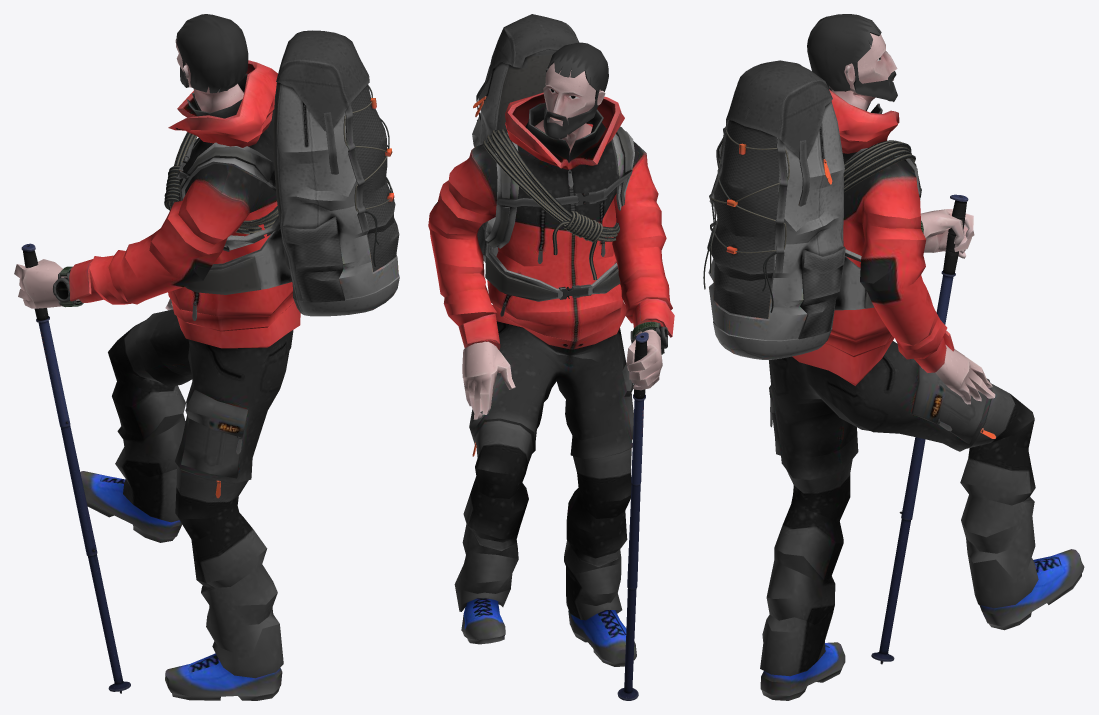
Rendered from hiker.glb.
The picture shows the model from 3 angles, left to right: view 1: azimuth 30°, elevation 25°; view 2: azimuth 150°, elevation 25°; view 3: azimuth 270°, elevation 25°; orthographic projection. The views are drawn at different scales.
Parts seen in each view (by area): view 1: BaseMeshBKP__0, Cube, BaseMeshBKP__0.005, Plane, Cylinder, BaseMeshBKP__0.004, BaseMeshBKP__0.002, BaseMeshBKP__0.001, BezierCircle, Cube.009, Plane.005; view 2: BaseMeshBKP__0, Cube, Plane, BaseMeshBKP__0.002, BaseMeshBKP__0.005, Cylinder, BezierCircle, BaseMeshBKP__0.001, BaseMeshBKP__0.004, BezierCircle.001, BaseMeshBKP__0.003, Plane.005; view 3: BaseMeshBKP__0, Cube, BaseMeshBKP__0.005, Cylinder, BaseMeshBKP__0.004, BaseMeshBKP__0.002, BaseMeshBKP__0.001, BezierCircle, Plane, Cube.009, BaseMeshBKP__0.003.
Boxes of the visible parts, bbox=[...] form: BaseMeshBKP__0: bbox=[69, 60, 300, 678]; Cube: bbox=[273, 30, 399, 316]; BaseMeshBKP__0.005: bbox=[80, 471, 282, 700]; Plane: bbox=[179, 138, 292, 294]; Cylinder: bbox=[21, 243, 130, 693]; BaseMeshBKP__0.004: bbox=[176, 14, 248, 93]; BaseMeshBKP__0.002: bbox=[14, 259, 172, 310]; BaseMeshBKP__0.001: bbox=[175, 38, 243, 112]; BezierCircle: bbox=[169, 95, 278, 234]; Cube.009: bbox=[343, 85, 394, 266]; Plane.005: bbox=[53, 266, 83, 307]; BaseMeshBKP__0: bbox=[428, 92, 674, 620]; Cube: bbox=[472, 14, 579, 262]; Plane: bbox=[484, 126, 634, 301]; BaseMeshBKP__0.002: bbox=[462, 329, 662, 419]; BaseMeshBKP__0.005: bbox=[461, 598, 636, 666]; Cylinder: bbox=[617, 332, 648, 700]; BezierCircle: bbox=[483, 129, 619, 241]; BaseMeshBKP__0.001: bbox=[535, 63, 605, 154]; BaseMeshBKP__0.004: bbox=[546, 42, 608, 108]; BezierCircle.001: bbox=[552, 211, 602, 280]; BaseMeshBKP__0.003: bbox=[543, 100, 597, 139]; Plane.005: bbox=[630, 321, 668, 354]; BaseMeshBKP__0: bbox=[760, 89, 1038, 676]; Cube: bbox=[707, 60, 845, 359]; BaseMeshBKP__0.005: bbox=[760, 549, 1084, 700]; Cylinder: bbox=[871, 194, 968, 664]; BaseMeshBKP__0.004: bbox=[807, 14, 881, 91]; BaseMeshBKP__0.002: bbox=[920, 209, 995, 404]; BaseMeshBKP__0.001: bbox=[830, 33, 897, 110]; BezierCircle: bbox=[843, 140, 915, 192]; Plane: bbox=[834, 143, 921, 310]; Cube.009: bbox=[703, 129, 789, 312]; BaseMeshBKP__0.003: bbox=[853, 71, 897, 101].
Size of the model in its own units: 0.686 by 1.53 by 0.7739.
Materials: 6 (6 with a texture image).
